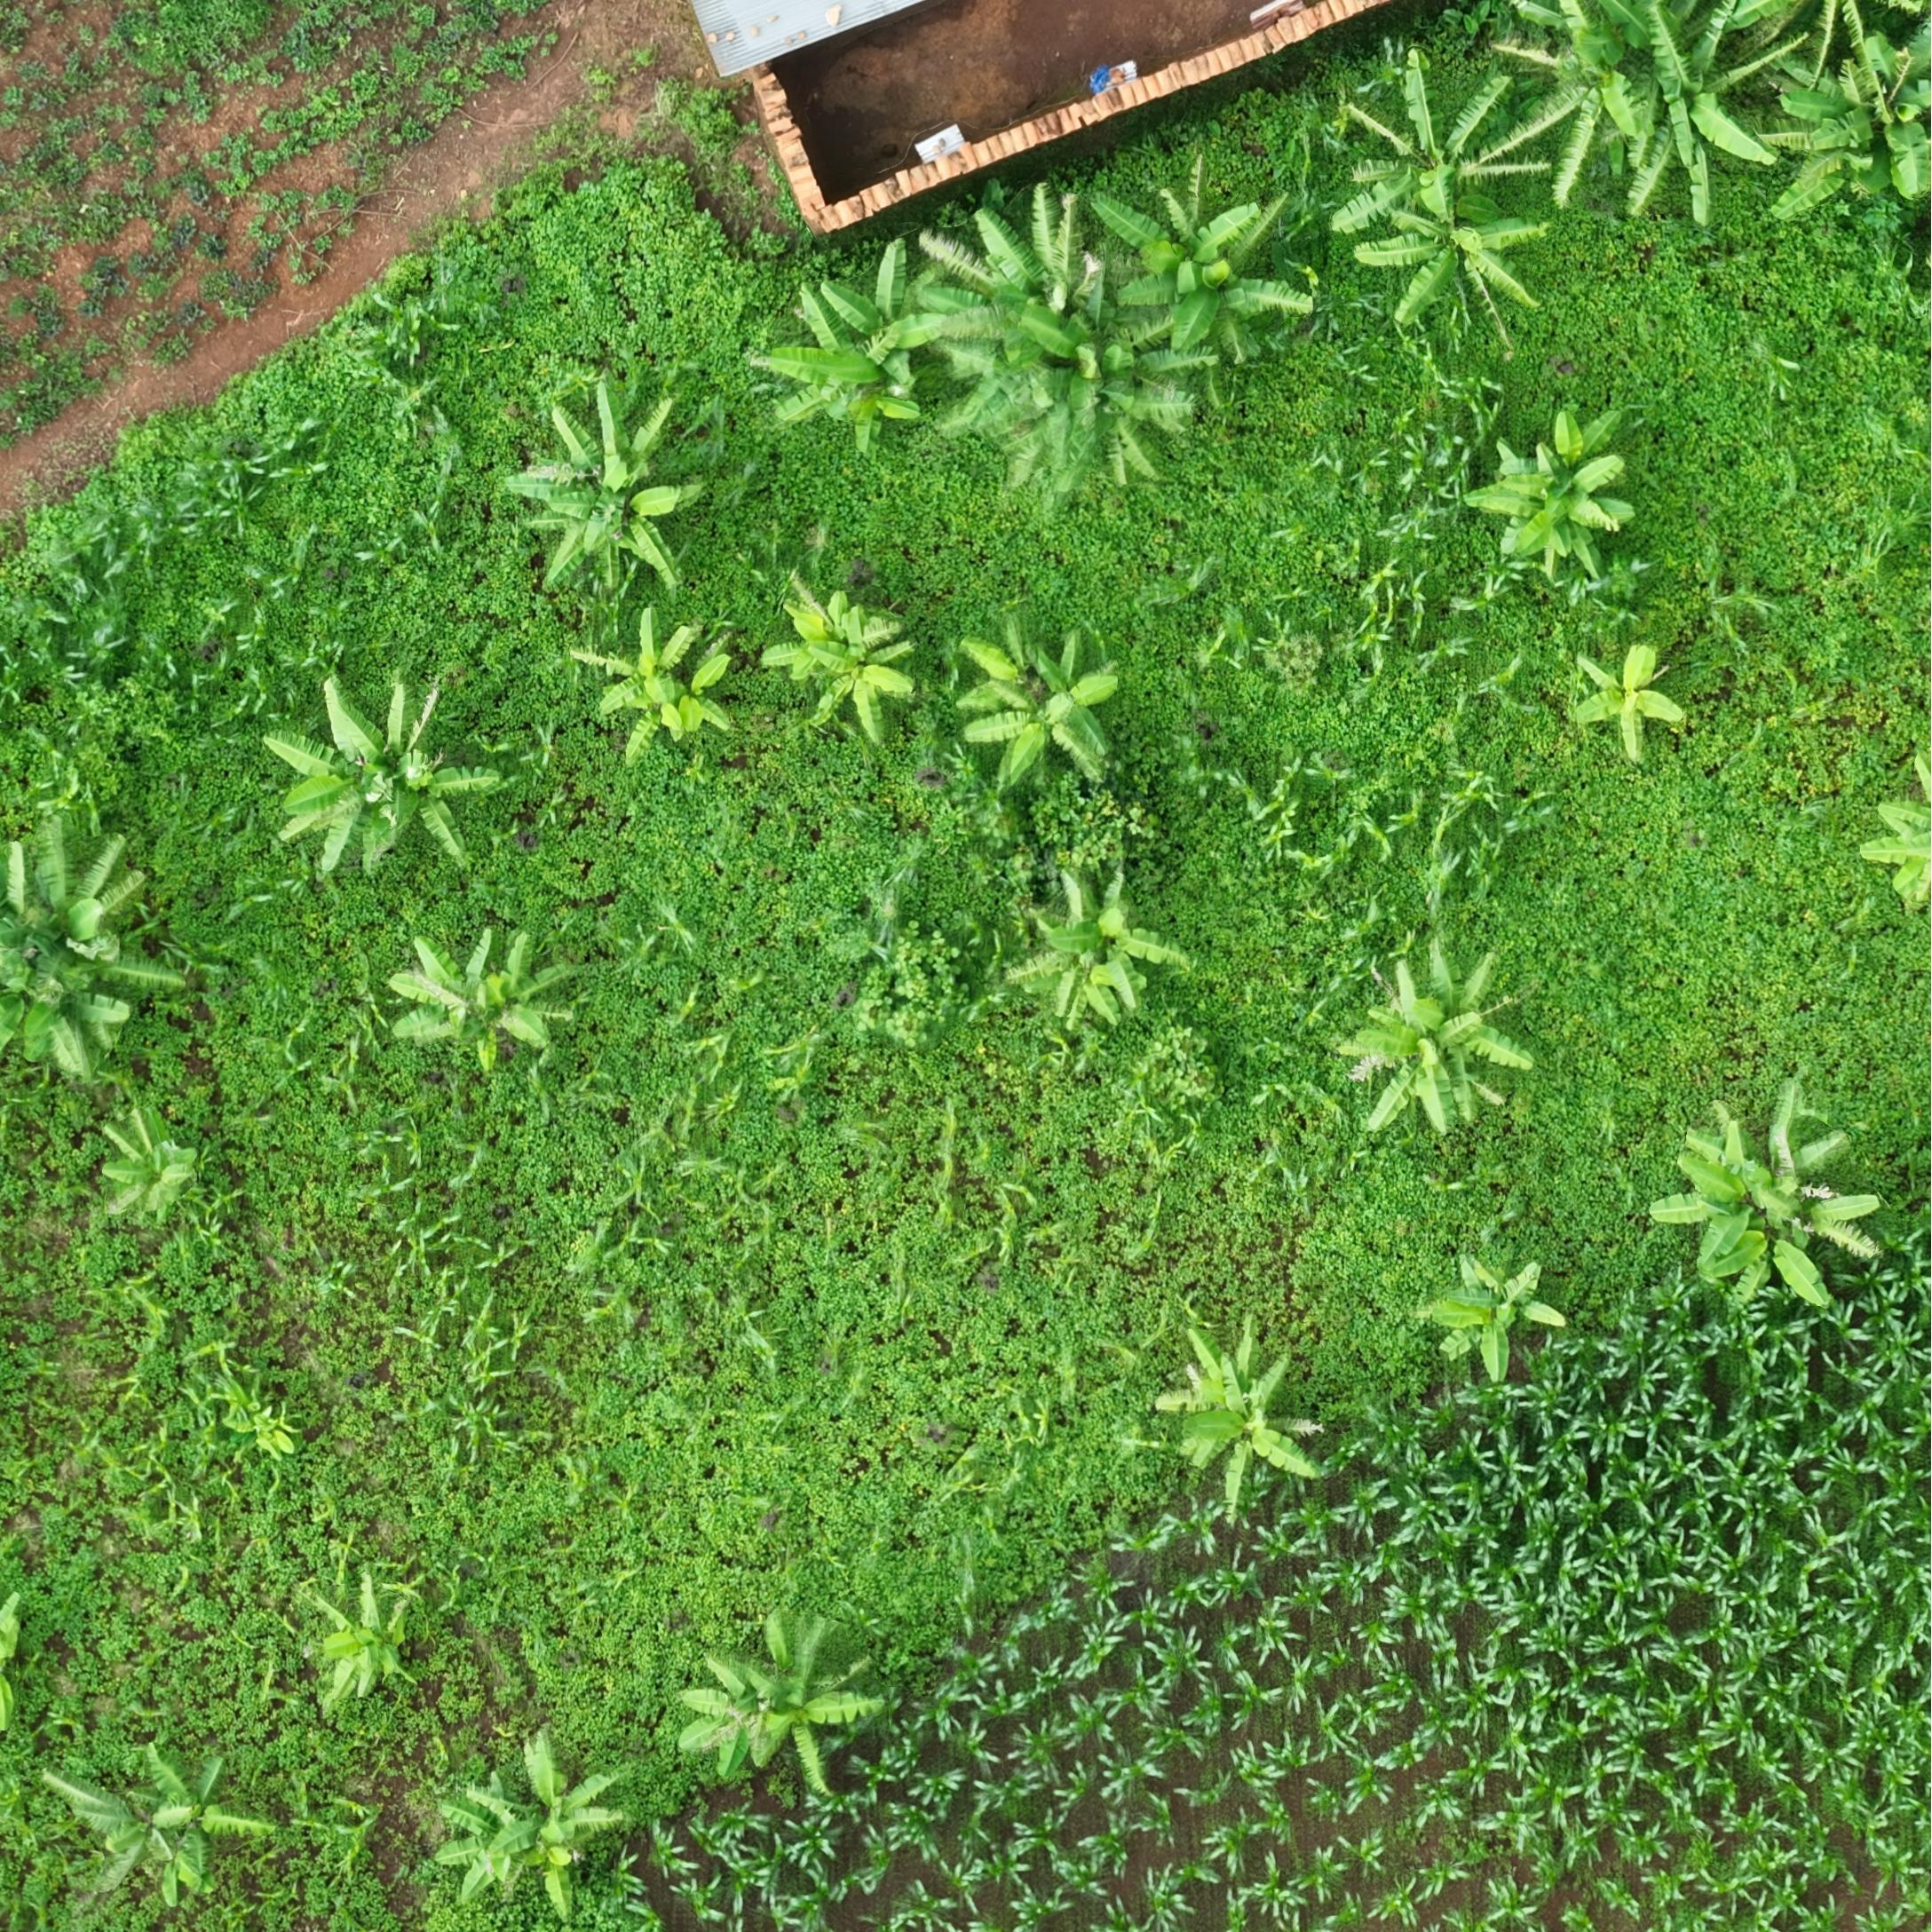Banana: (964, 232, 1214, 497), (1394, 46, 1605, 347), (1608, 4, 1849, 255), (1734, 1123, 1932, 1364), (1385, 980, 1599, 1185), (9, 856, 166, 1120), (274, 720, 506, 897), (717, 1667, 911, 1861), (540, 426, 738, 616), (1530, 433, 1707, 621), (1210, 1389, 1394, 1557), (809, 255, 957, 460), (998, 635, 1161, 812), (1224, 198, 1382, 380), (602, 640, 784, 787), (801, 617, 968, 770), (421, 954, 593, 1100), (1065, 913, 1212, 1063), (55, 1824, 258, 1932), (479, 1817, 640, 1932), (1497, 1295, 1631, 1426), (1852, 23, 1932, 228), (1642, 662, 1748, 793), (104, 1155, 193, 1288), (327, 1656, 423, 1775)
